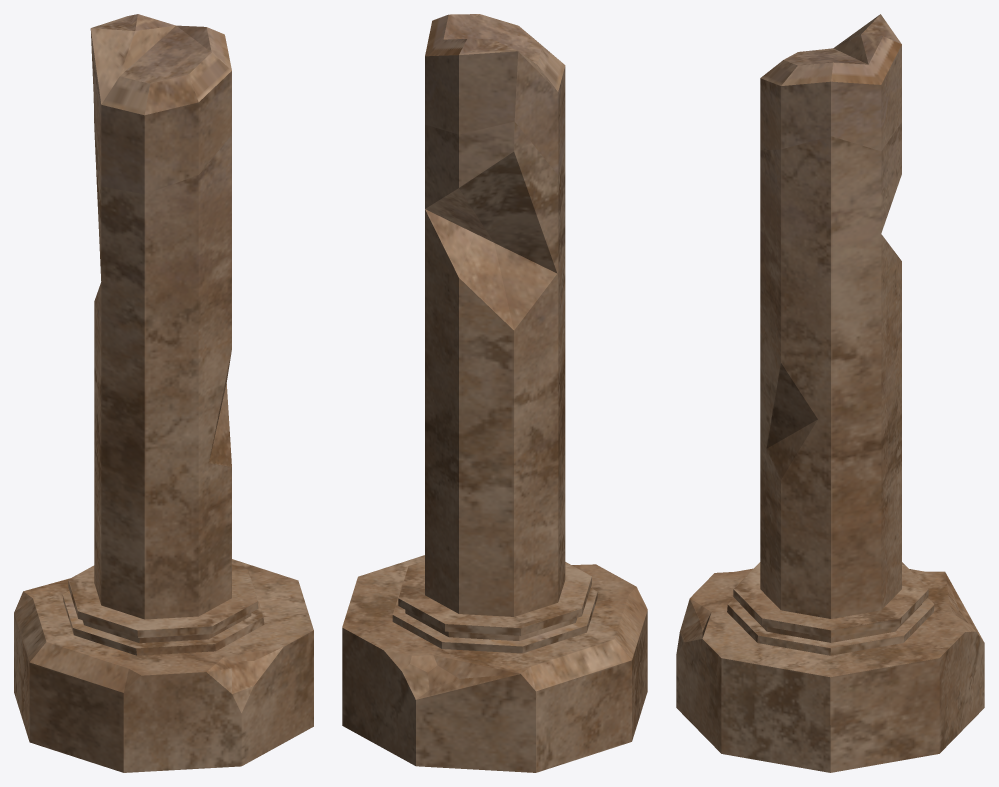
The model's file is Broken Pillar 2.fbx.
The picture shows the model from 3 angles, left to right: view 1: azimuth 30°, elevation 25°; view 2: azimuth 150°, elevation 25°; view 3: azimuth 270°, elevation 25°; orthographic projection. The views are drawn at different scales.
Visible parts, largest first — view 1: Cylinder.003; view 2: Cylinder.003; view 3: Cylinder.003.
Boxes of the visible parts, x1,y1,x2,y2 form: Cylinder.003: [14, 14, 313, 772]; Cylinder.003: [342, 14, 647, 772]; Cylinder.003: [676, 14, 984, 772].
Bounding box in the file's own units: 282 × 678 × 282.
Materials: 1 (1 with a texture image).
